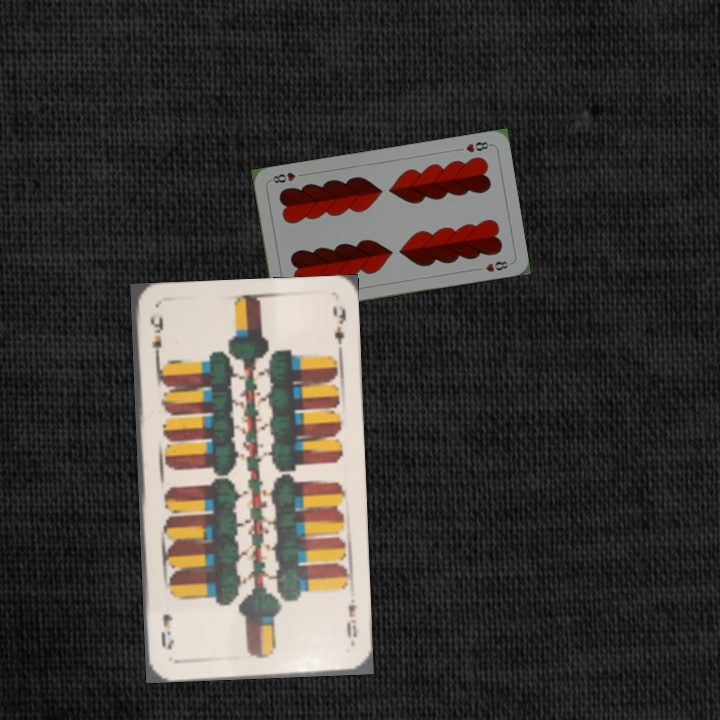E9: (146, 308, 165, 366), (342, 600, 360, 640)
H8: (462, 138, 494, 155)
